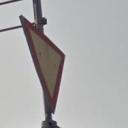preferencia: (18, 12, 72, 112)
